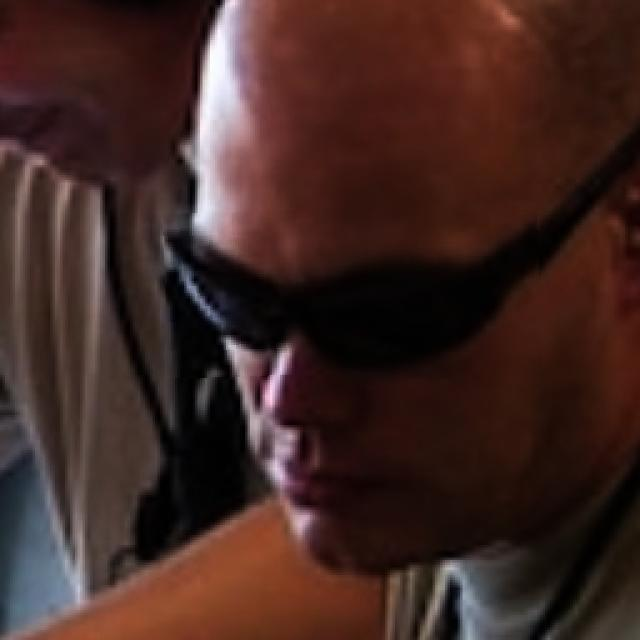glasses: (165, 204, 541, 375)
